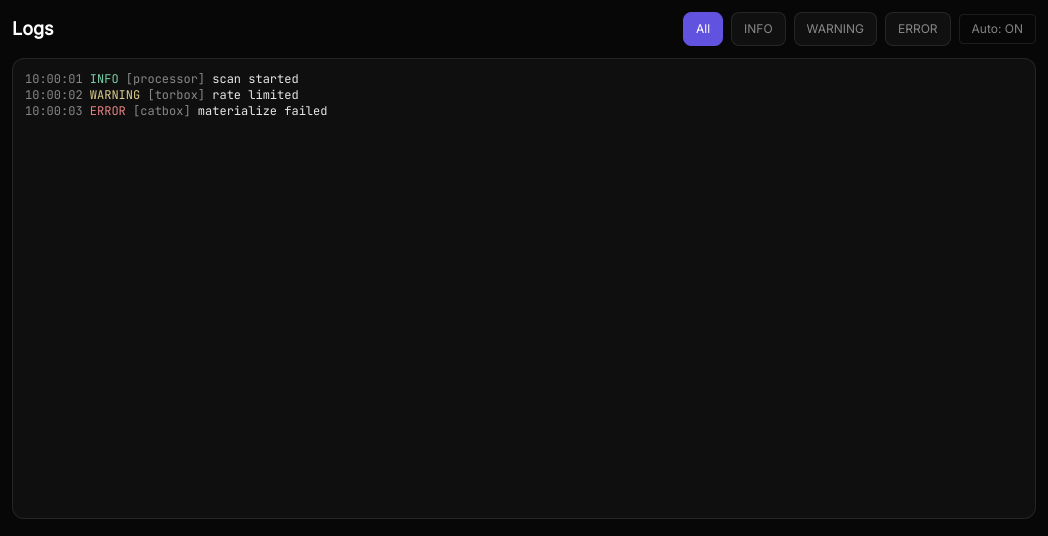
Scenario: Logs tab › hides INFO lines when the ERROR filter chip is selected
Expected: the text "scan started" is shown, 212,71 -> 299,87
Click the button "ERROR".
click(918, 29)  # box 898,21 -> 938,37
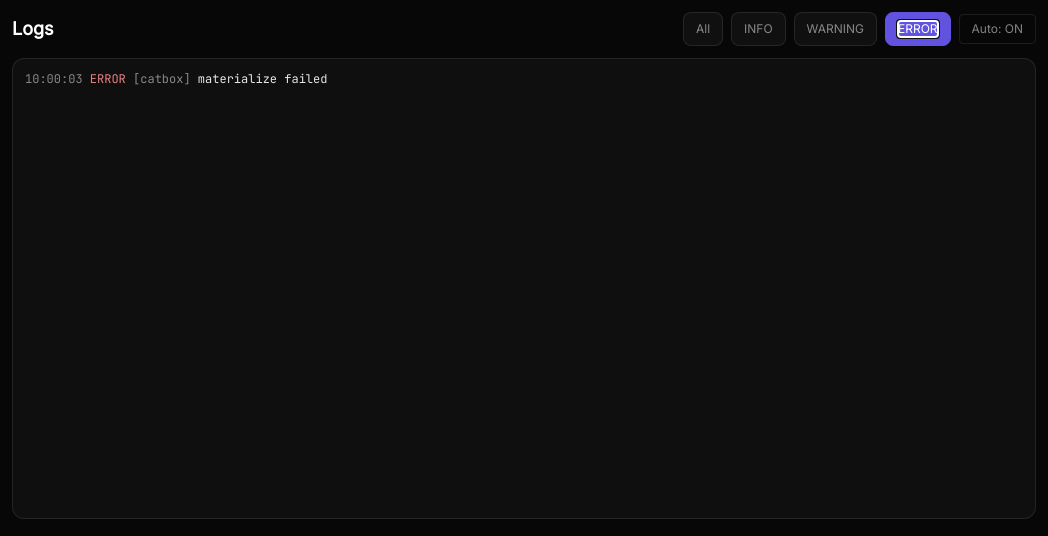
Expected: the text "materialize failed" is shown, 198,71 -> 327,87
Expected: the text "scan started" is gone
